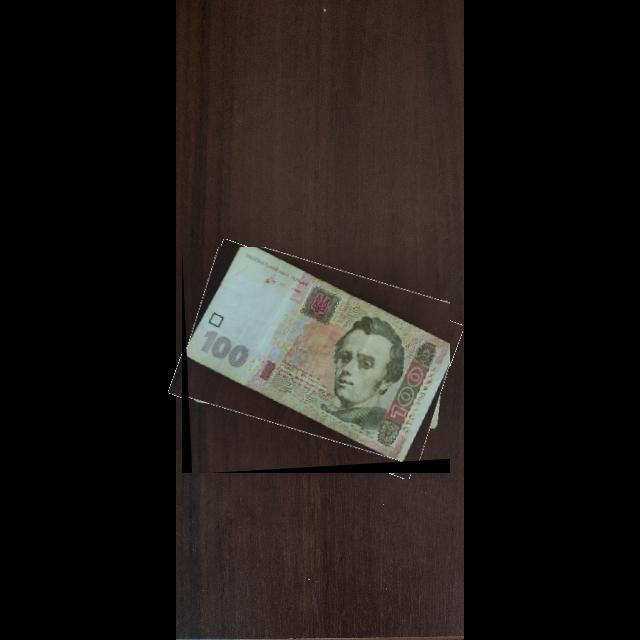100uah: (187, 247, 451, 465)
